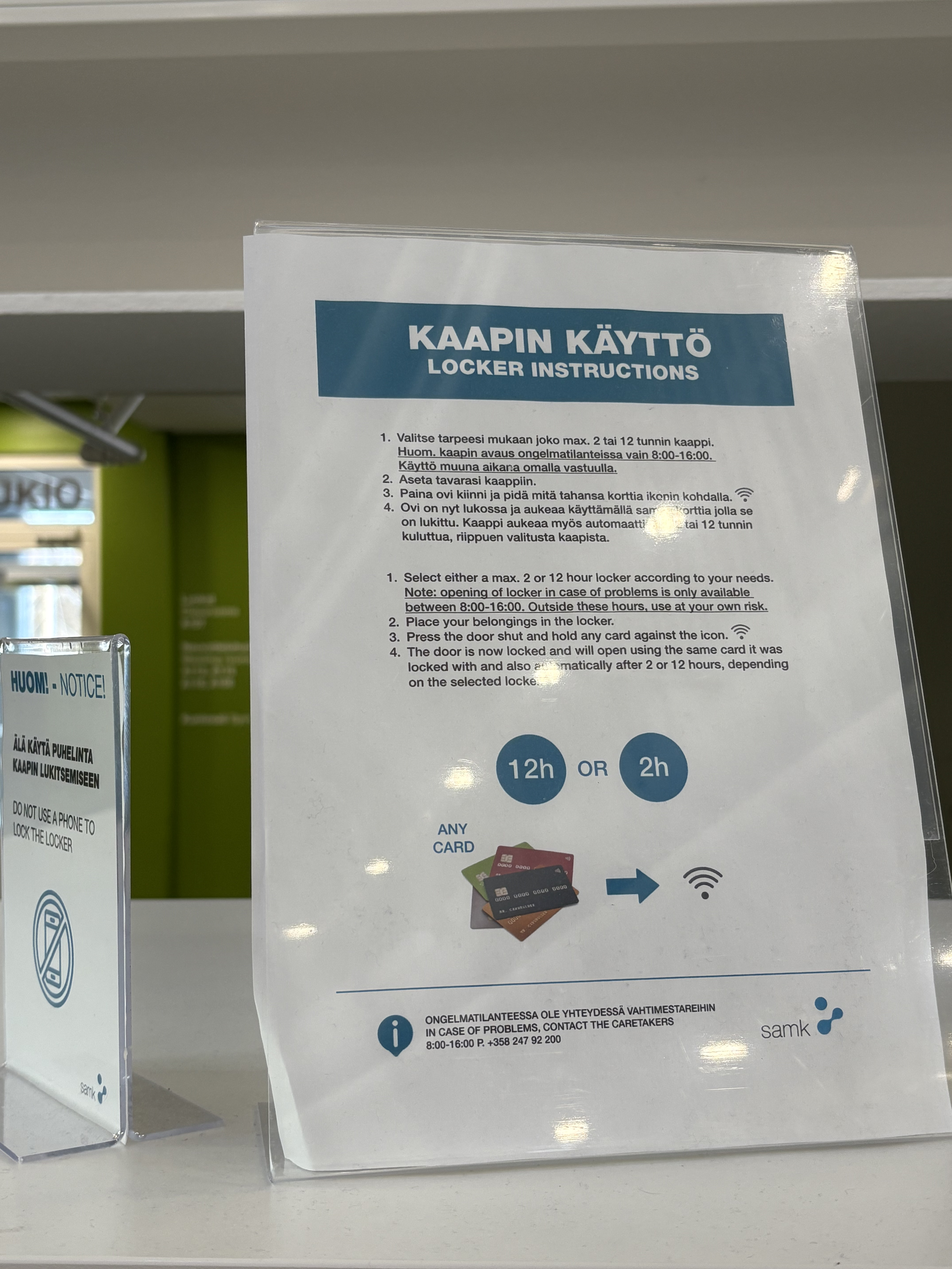paper: (238, 221, 950, 1162)
